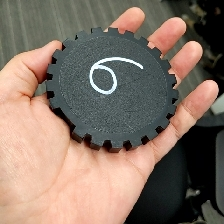gear: (44, 26, 180, 155)
missing: (47, 94, 86, 144)
